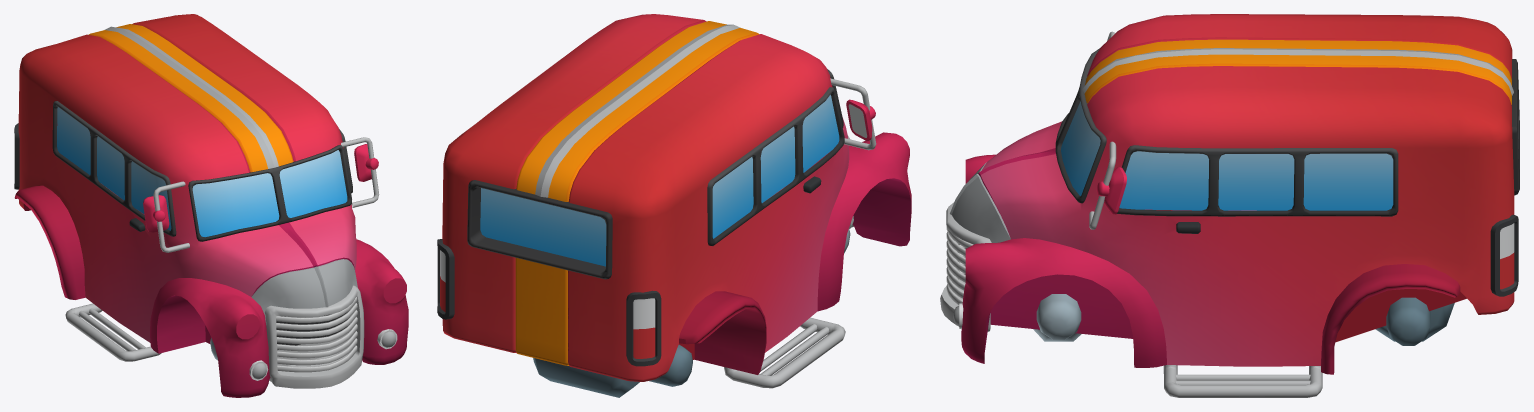
File: Car_07.fbx
The picture shows the model from 3 angles, left to right: view 1: azimuth 30°, elevation 25°; view 2: azimuth 150°, elevation 25°; view 3: azimuth 270°, elevation 25°; orthographic projection. The views are drawn at different scales.
Visible parts, largest first — view 1: Car_07; view 2: Car_07; view 3: Car_07.
Boxes of the visible parts, box(x1,y1,x2,y2) form: Car_07: box(14, 14, 408, 397); Car_07: box(437, 14, 911, 397); Car_07: box(940, 14, 1519, 397).
Bounding box in the file's own units: 240 × 407 × 217.
